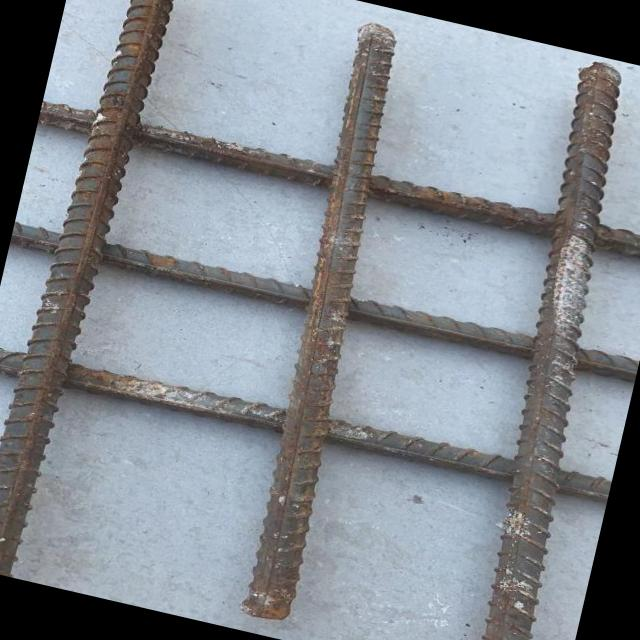ribbed bar: (223, 17, 428, 626), (439, 59, 640, 640), (9, 215, 638, 390), (0, 333, 611, 510), (0, 0, 185, 583), (37, 93, 640, 267)
